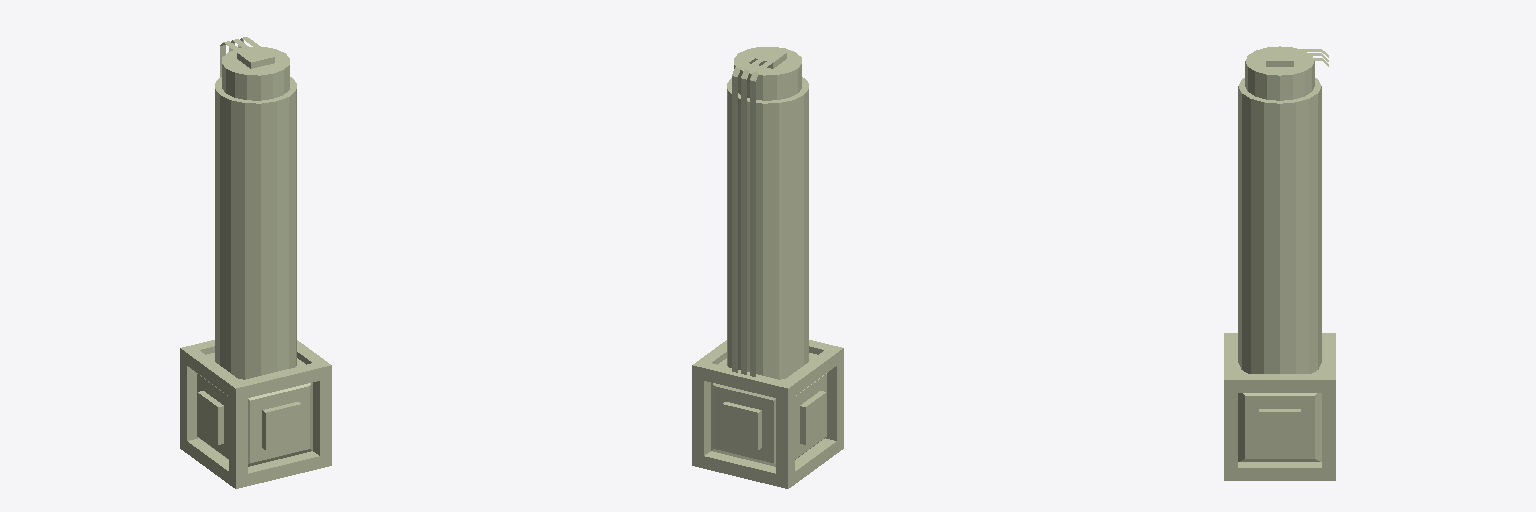
The model's file is centrifuge.obj.
3 renders of one model, left to right at view 1: azimuth 30°, elevation 25°; view 2: azimuth 150°, elevation 25°; view 3: azimuth 270°, elevation 25°, orthographic.
Visible parts, largest first — view 1: Cube_Cube.001; view 2: Cube_Cube.001; view 3: Cube_Cube.001.
Part boxes in pixels (x1,y1,x2,y2): Cube_Cube.001: (180,37,331,488); Cube_Cube.001: (692,47,843,488); Cube_Cube.001: (1224,46,1335,480).
Size of the model in its own units: 1 by 4 by 1.